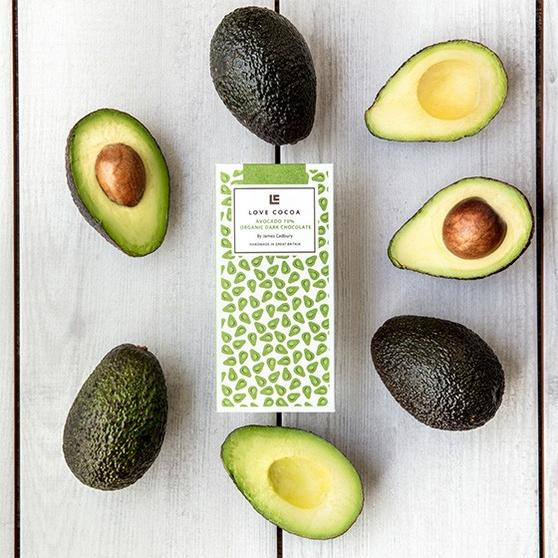avocado: (65, 345, 171, 491), (372, 317, 502, 432)
